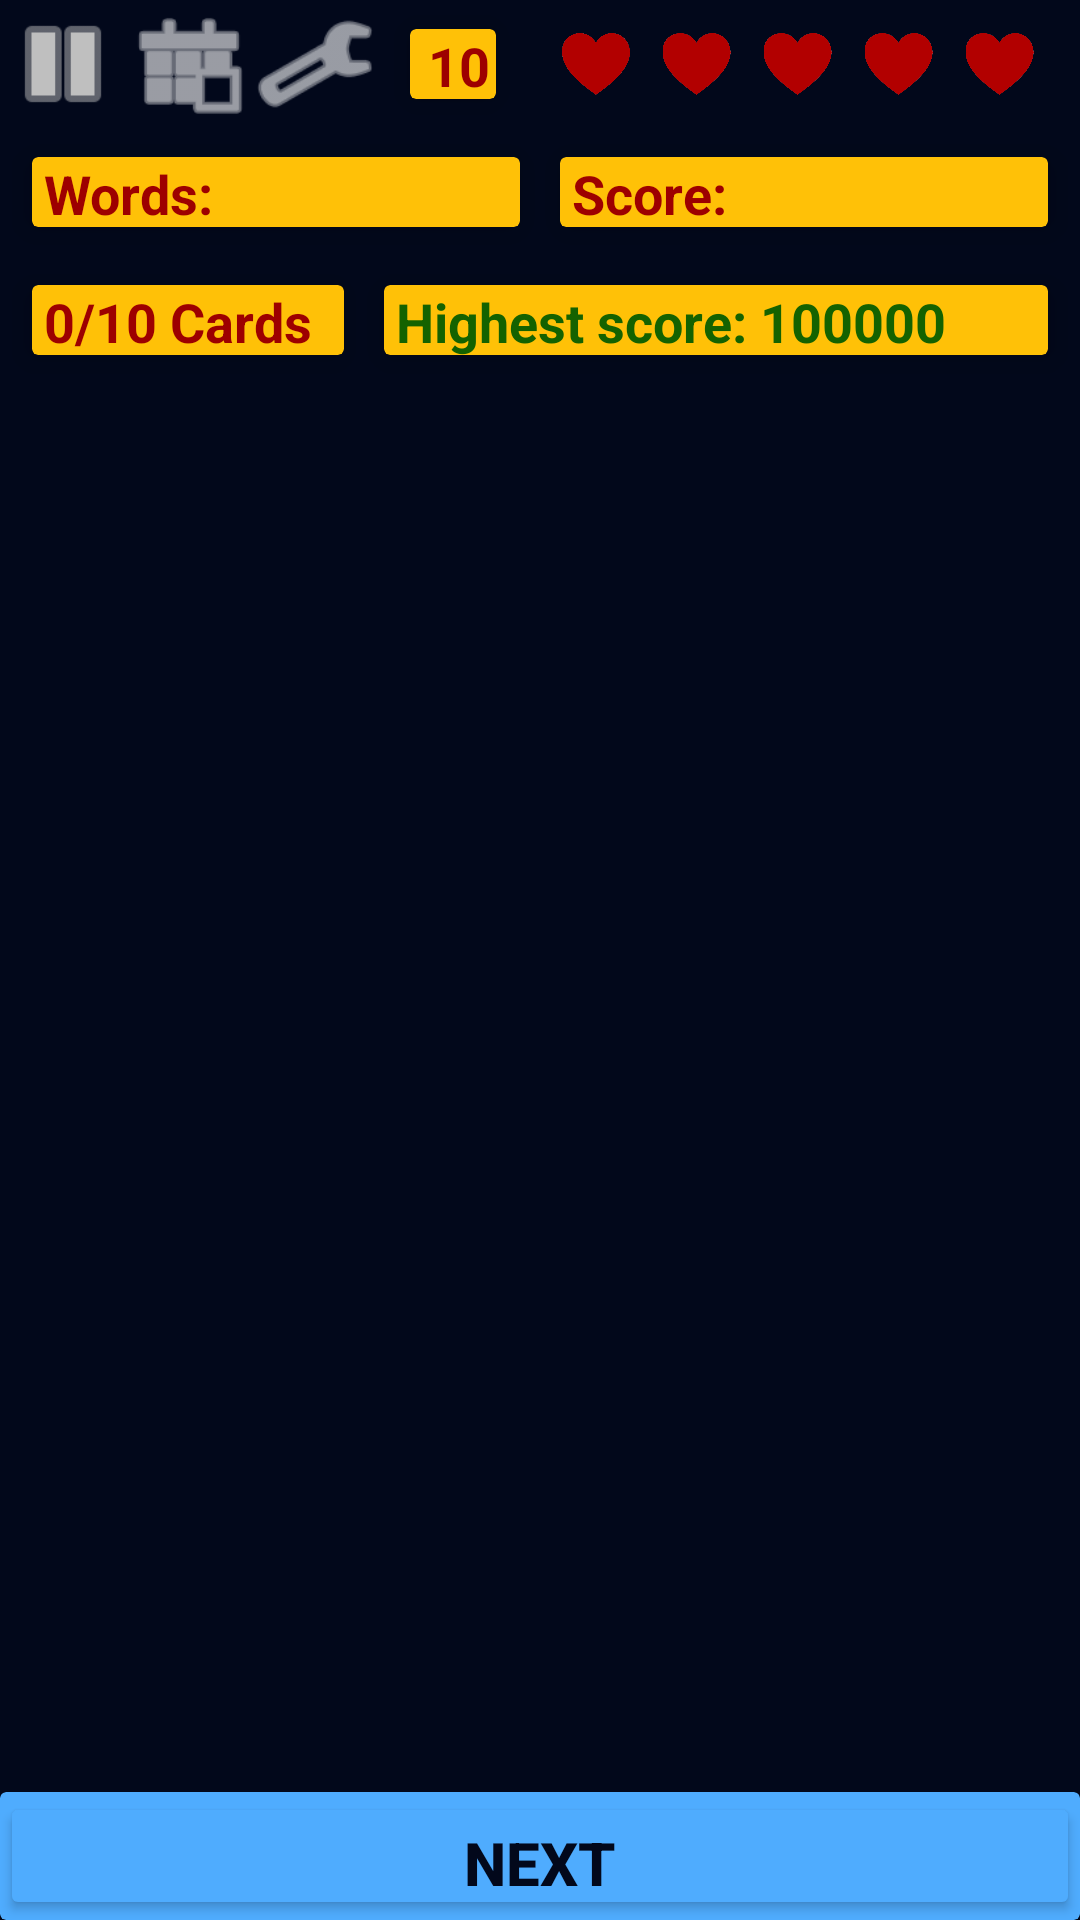

Screen size 1080*1920. Icon name, then its box in pixels as bbox=[x1, y1, x2, y2]:
heart: bbox=[562, 33, 630, 95], bbox=[663, 33, 731, 95], bbox=[764, 33, 832, 95], bbox=[865, 33, 933, 95], bbox=[966, 33, 1034, 95]
manage: bbox=[258, 21, 372, 107]
pause: bbox=[25, 26, 101, 102]
today: bbox=[139, 18, 242, 114]
